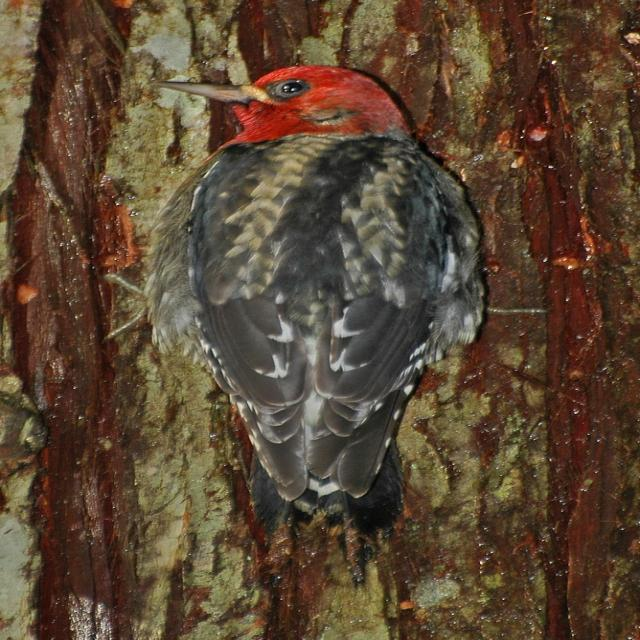bird: (157, 57, 482, 542)
